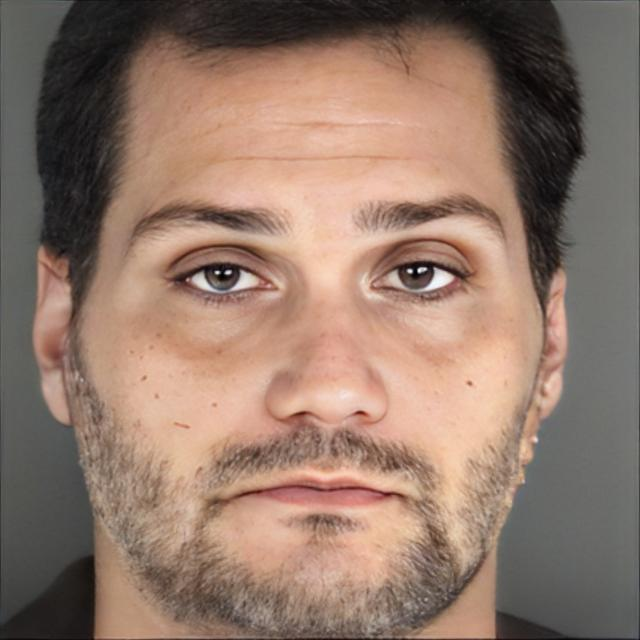neutral: (75, 28, 542, 639)
